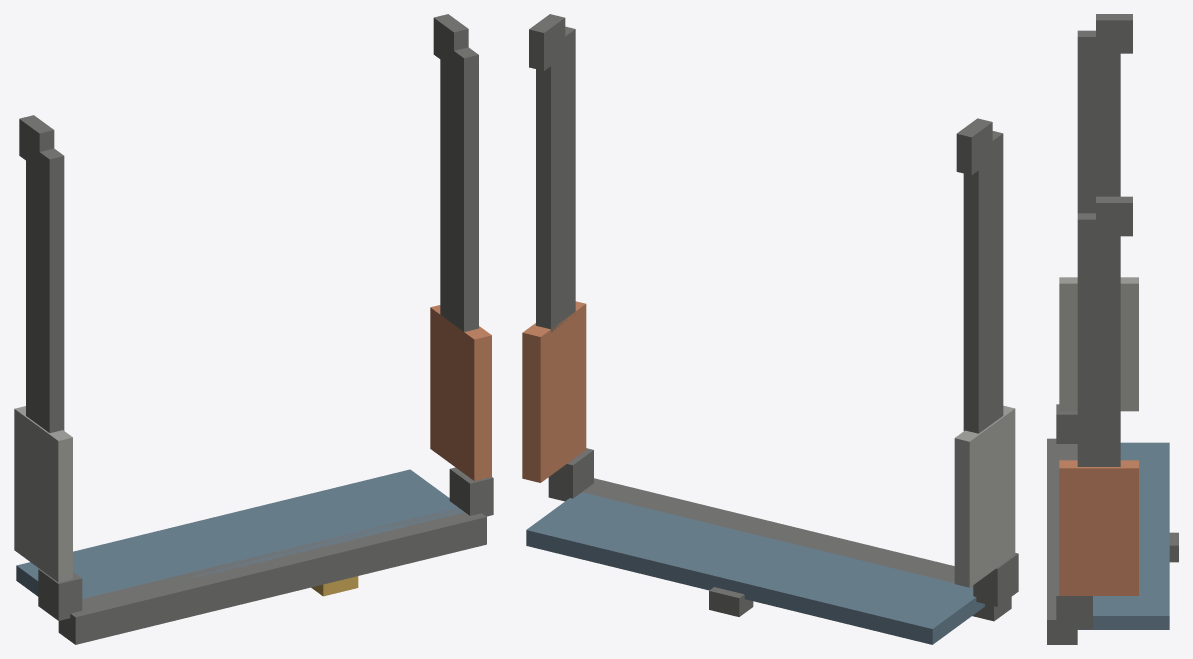
File: ar_glasses.glb
3 renders of one model, left to right at view 1: azimuth 30°, elevation 25°; view 2: azimuth 150°, elevation 25°; view 3: azimuth 270°, elevation 25°, orthographic. The views are drawn at different scales.
Parts seen in each view (by area): view 1: lens_shield, brow_bar, L_arm, R_arm, R_compute, L_battery, L_hinge, R_hinge, R_eartip, L_eartip; view 2: lens_shield, L_arm, R_arm, R_compute, L_battery, brow_bar, L_eartip, R_eartip, R_hinge, L_hinge, nose_pad; view 3: R_arm, R_compute, lens_shield, L_arm, L_battery, brow_bar, R_eartip, R_hinge, L_eartip, L_hinge, nose_pad.
Boxes of the visible parts, <box> form: lens_shield: <box>16,469,464,598</box>; brow_bar: <box>58,507,486,644</box>; L_arm: <box>26,142,64,432</box>; R_arm: <box>440,47,478,331</box>; R_compute: <box>430,305,491,480</box>; L_battery: <box>14,406,72,582</box>; L_hinge: <box>38,569,82,620</box>; R_hinge: <box>449,467,493,516</box>; R_eartip: <box>433,14,468,68</box>; L_eartip: <box>19,115,54,170</box>; lens_shield: <box>526,492,984,644</box>; L_arm: <box>963,131,1003,433</box>; R_arm: <box>536,26,575,332</box>; R_compute: <box>522,301,586,482</box>; L_battery: <box>954,405,1015,587</box>; brow_bar: <box>582,478,1011,621</box>; L_eartip: <box>956,118,992,175</box>; R_eartip: <box>529,14,565,70</box>; R_hinge: <box>548,448,593,501</box>; L_hinge: <box>973,553,1018,606</box>; nose_pad: <box>709,587,753,616</box>; R_arm: <box>1077,213,1120,466</box>; R_compute: <box>1059,460,1138,595</box>; lens_shield: <box>1065,442,1169,629</box>; L_arm: <box>1077,30,1120,213</box>; L_battery: <box>1059,277,1138,411</box>; brow_bar: <box>1047,438,1077,644</box>; R_eartip: <box>1096,196,1132,236</box>; R_hinge: <box>1056,585,1092,629</box>; L_eartip: <box>1096,14,1132,53</box>; L_hinge: <box>1056,404,1077,443</box>; nose_pad: <box>1169,532,1178,562</box>.
Size of the model in its own units: 148 by 166 by 43.
